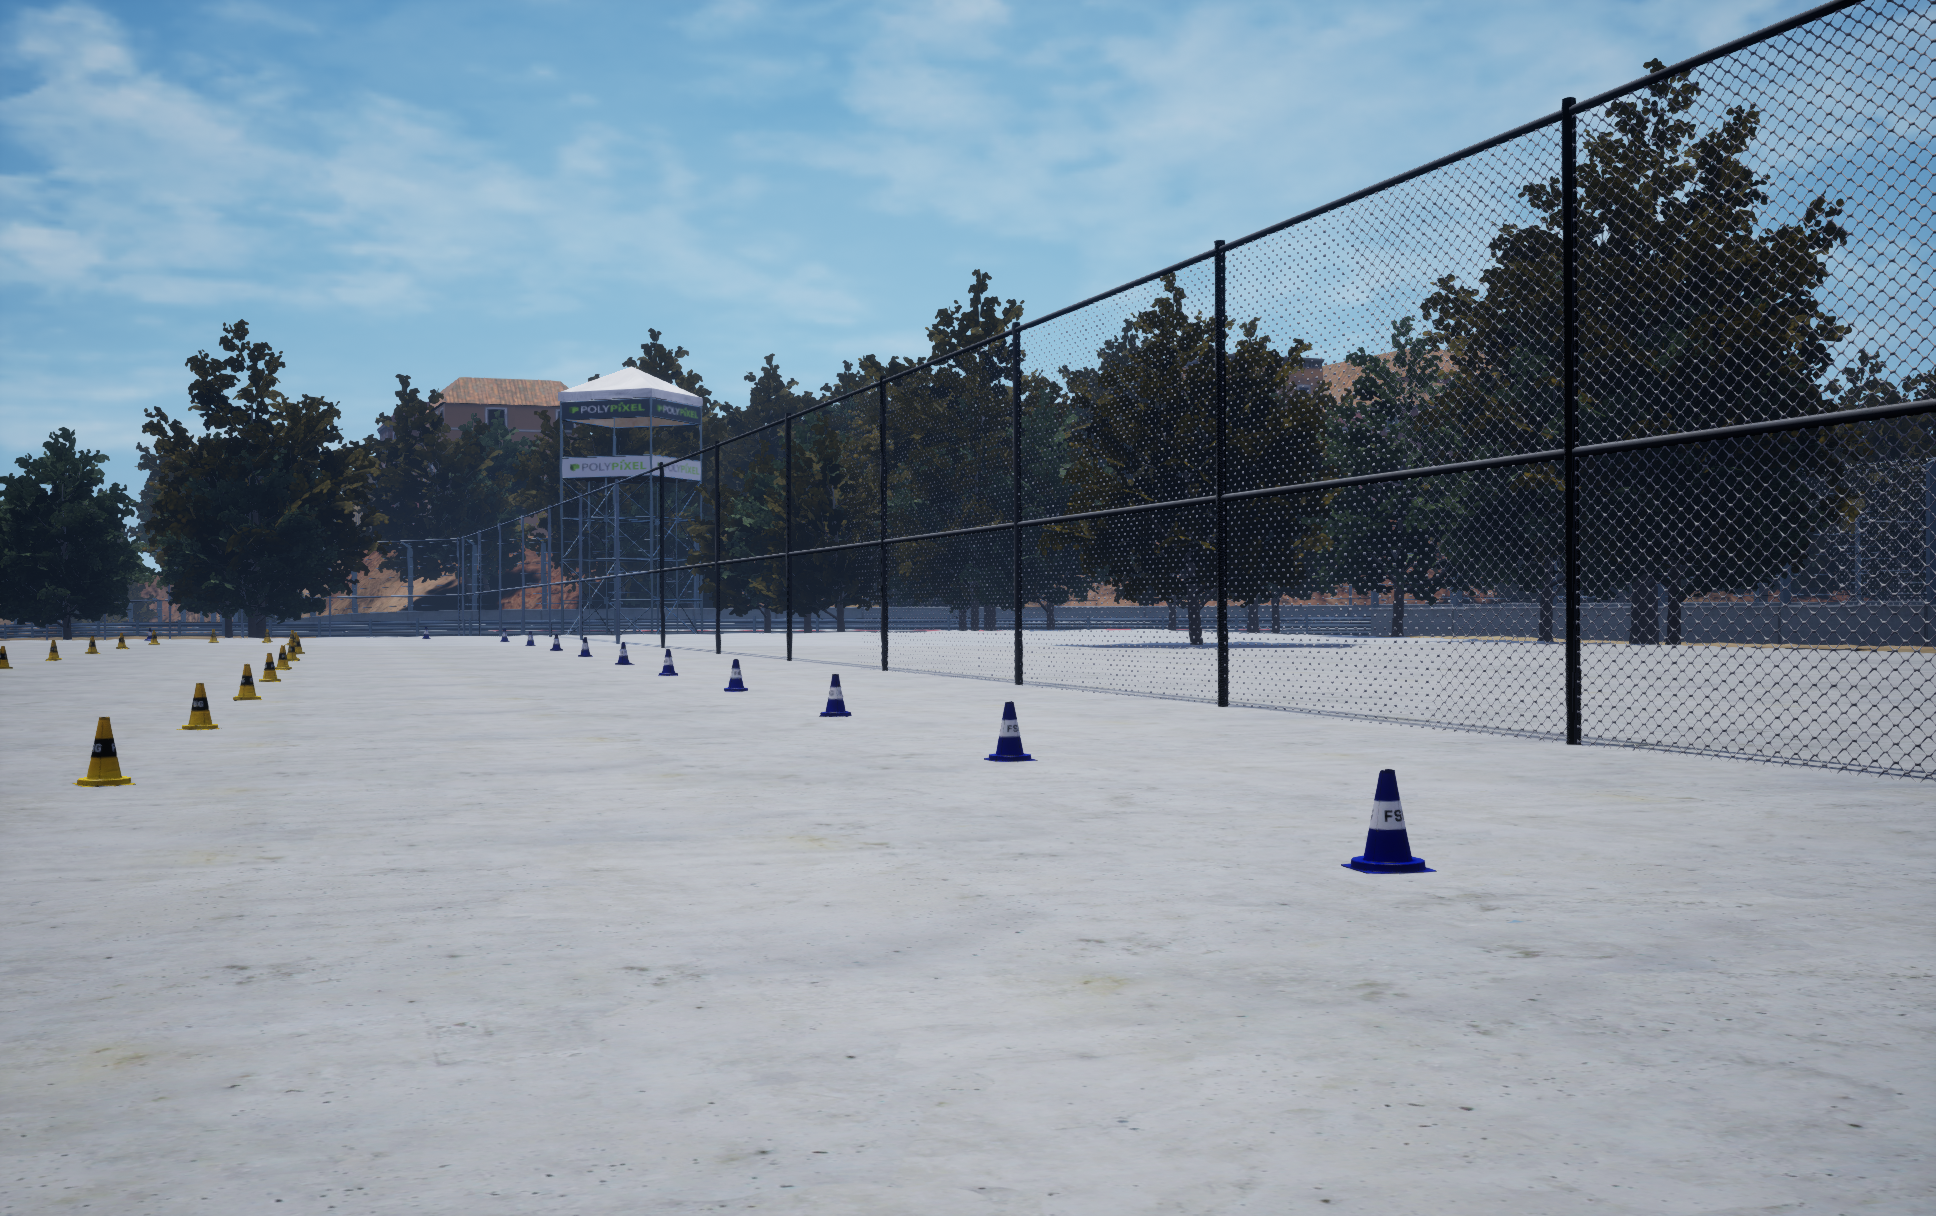blue: (71, 717, 134, 786), (177, 684, 221, 728), (233, 664, 261, 700), (259, 653, 280, 681), (275, 644, 291, 670), (45, 640, 62, 660), (0, 646, 13, 668), (287, 640, 298, 660)
yellow: (1341, 769, 1436, 873), (983, 700, 1037, 761), (820, 674, 850, 716), (724, 658, 747, 691), (658, 649, 677, 675), (615, 642, 635, 664), (579, 637, 593, 656)
